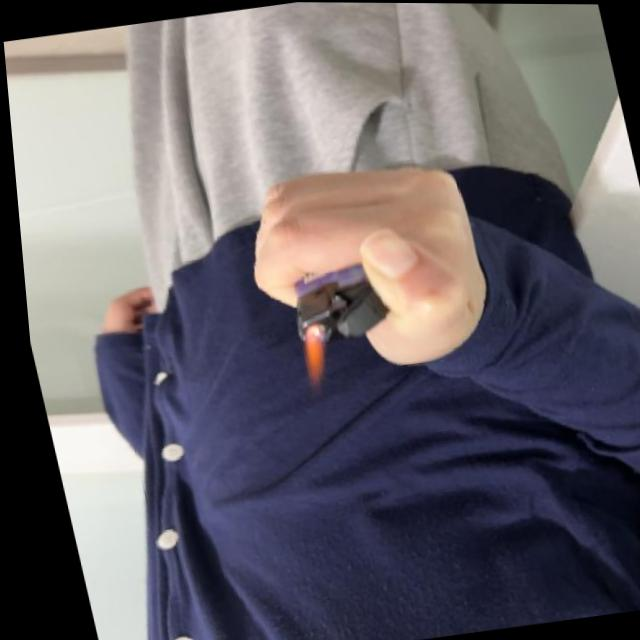Fire: (289, 324, 333, 390)
